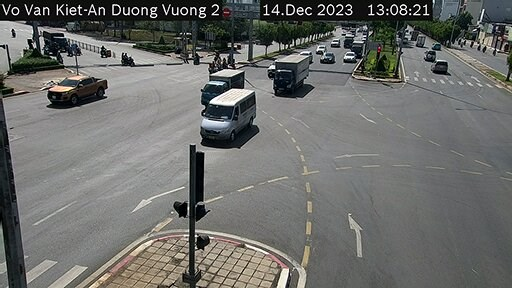car: (44, 71, 115, 113), (196, 96, 263, 140), (430, 59, 447, 74), (319, 52, 334, 64), (343, 52, 355, 65)
truck: (206, 69, 254, 100), (270, 60, 306, 96)
